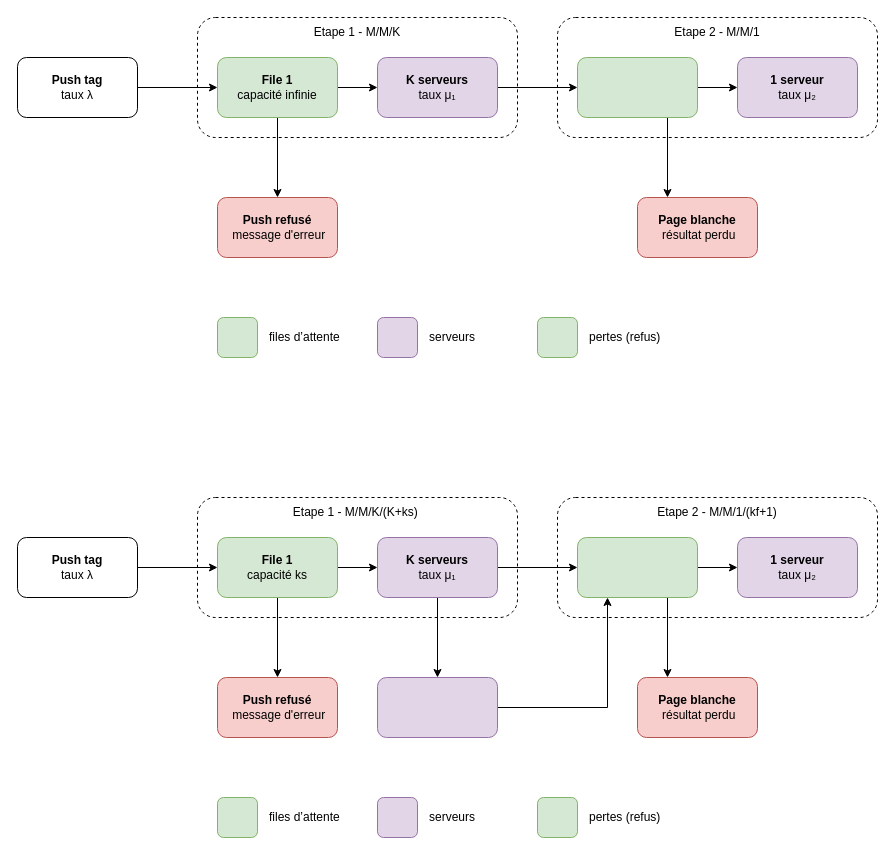
The diagram is 895 pixels wide and 855 high, and some of its shapes have lost their labels. Here are the shapes that lost their labels. From the top down, the box of each, then its label:
(576, 56, 698, 118): File 2 capacité infinie
(576, 536, 698, 598): File 2 capacité kf
(376, 676, 498, 738): Back-up avec proba p
